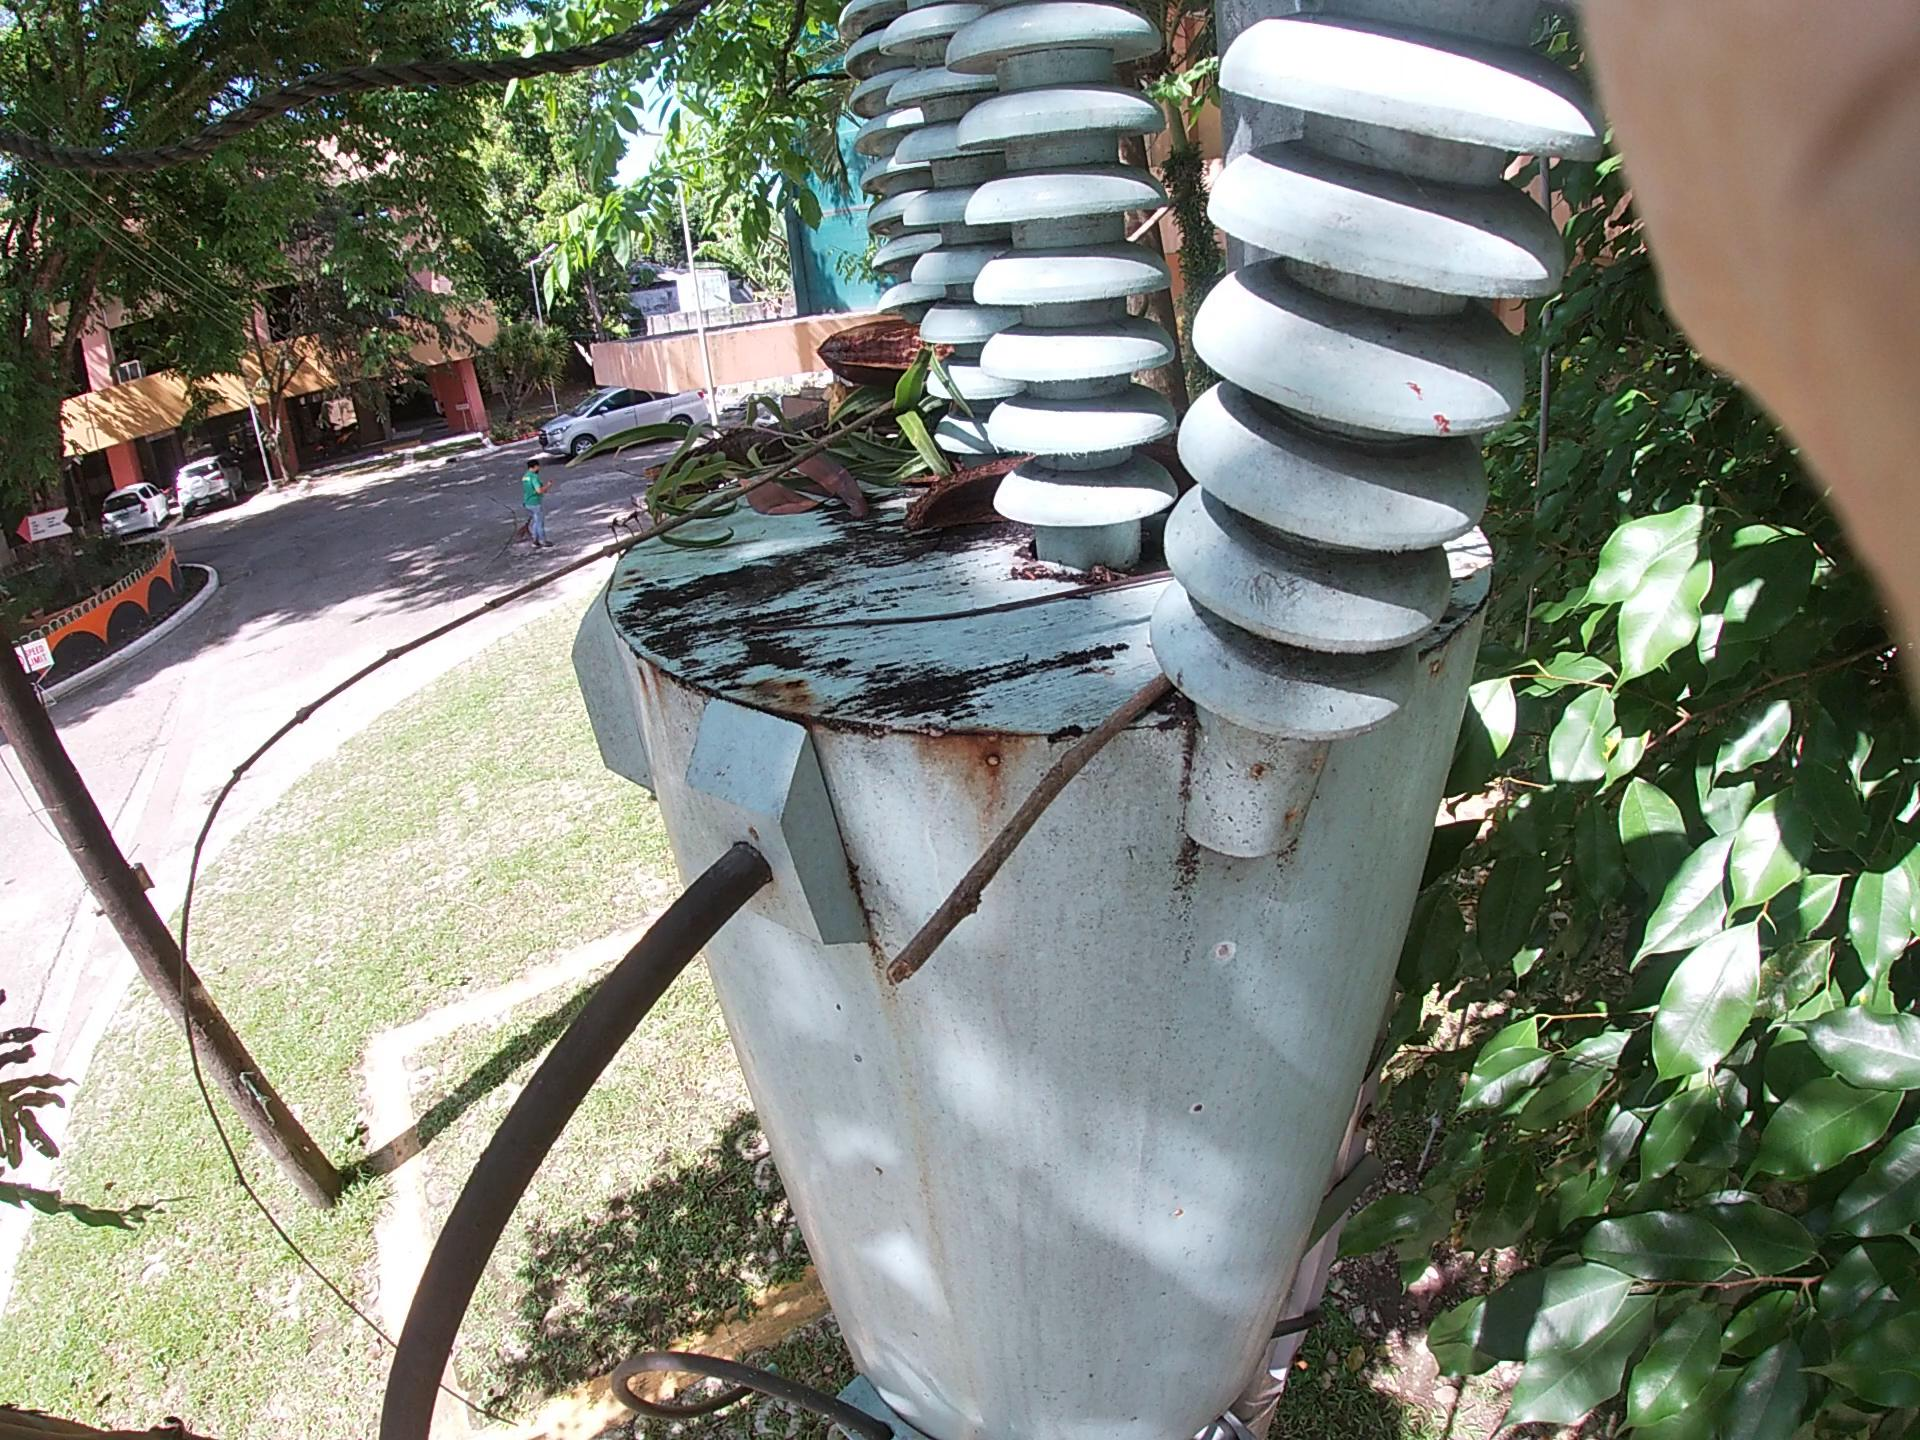branch with leaves: (668, 265, 965, 557)
leaf: (714, 430, 912, 591)
mahogany fruit: (797, 280, 1014, 427), (869, 437, 1063, 560)
tree branch: (122, 414, 921, 1234), (912, 687, 1163, 995), (801, 540, 1166, 640)
